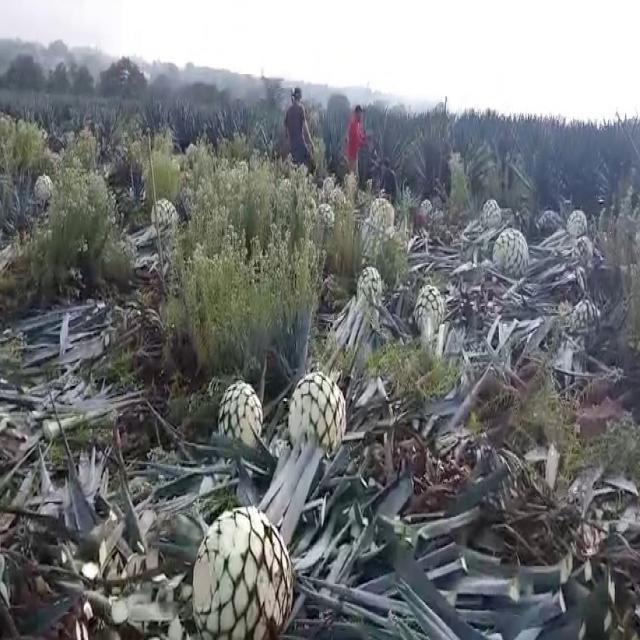agave: (192, 499, 294, 640), (289, 369, 347, 466), (218, 380, 263, 451), (492, 225, 534, 280), (415, 280, 447, 337), (355, 265, 388, 319), (368, 194, 398, 240), (149, 194, 180, 237), (311, 198, 337, 237), (572, 296, 597, 332), (479, 195, 503, 231), (33, 172, 56, 209), (572, 235, 594, 268), (568, 210, 587, 243)
